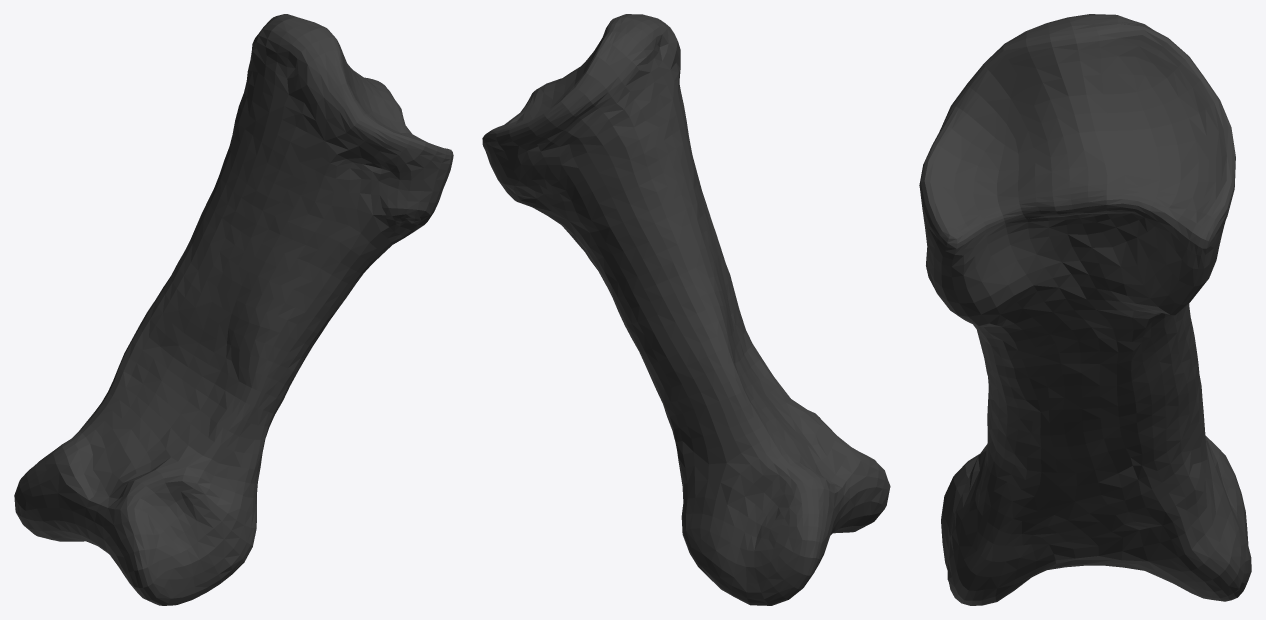
Rendered from middle_phalanx_III_L.glb.
3 views of the same model, side by side, from view 1: azimuth 30°, elevation 25°; view 2: azimuth 150°, elevation 25°; view 3: azimuth 270°, elevation 25° (orthographic). The views are drawn at different scales.
Parts seen in each view (by area): view 1: middle_phalanx_III_L; view 2: middle_phalanx_III_L; view 3: middle_phalanx_III_L.
Boxes of the visible parts, x1,y1,x2,y2 form: middle_phalanx_III_L: (14, 14, 453, 605); middle_phalanx_III_L: (482, 14, 890, 605); middle_phalanx_III_L: (919, 14, 1251, 605).
Bounding box in the file's own units: 0.0209 × 0.0294 × 0.0129.
1 material, 1 textured.
